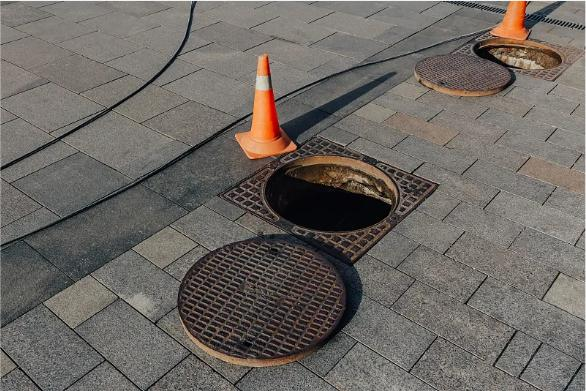wellcover: (181, 131, 402, 370), (415, 21, 567, 109)
